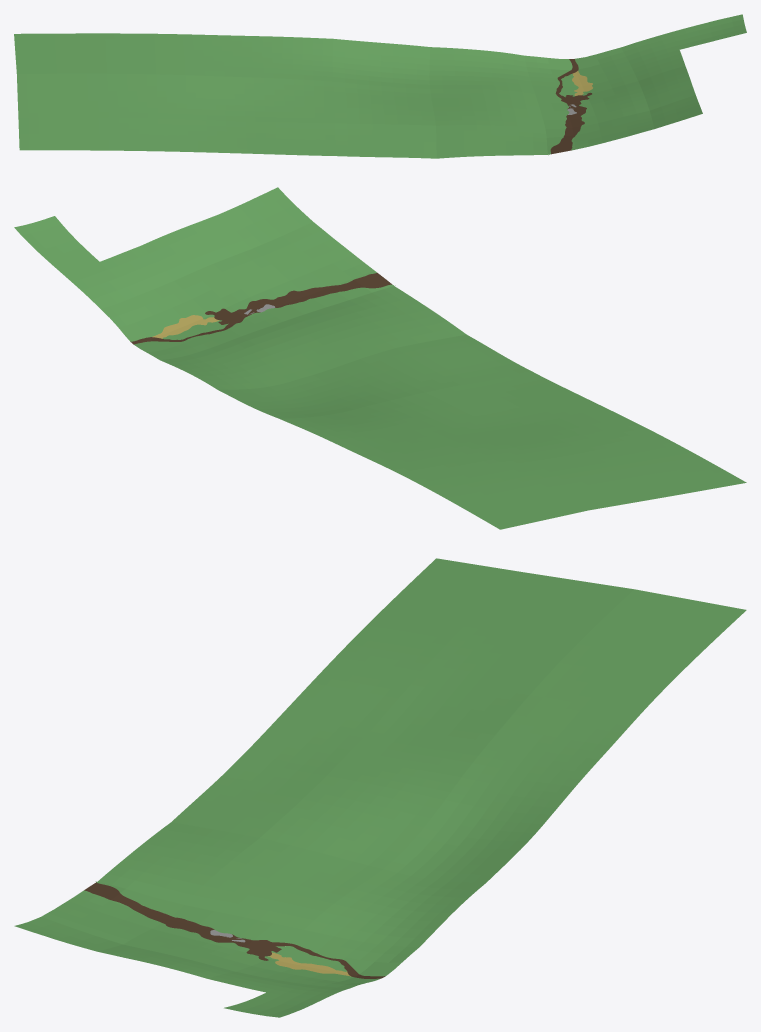
The model's file is Simple path.fbx.
3 views of the same model, one above another, from view 1: azimuth 30°, elevation 25°; view 2: azimuth 150°, elevation 25°; view 3: azimuth 270°, elevation 25° (orthographic). The views are drawn at different scales.
Parts seen in each view (by area): view 1: base; view 2: base; view 3: base.
Boxes of the visible parts, x1,y1,x2,y2 form: base: (14, 14, 746, 158); base: (14, 187, 746, 529); base: (14, 558, 746, 1017).
Bounding box in the file's own units: 3536 × 215 × 2298.
